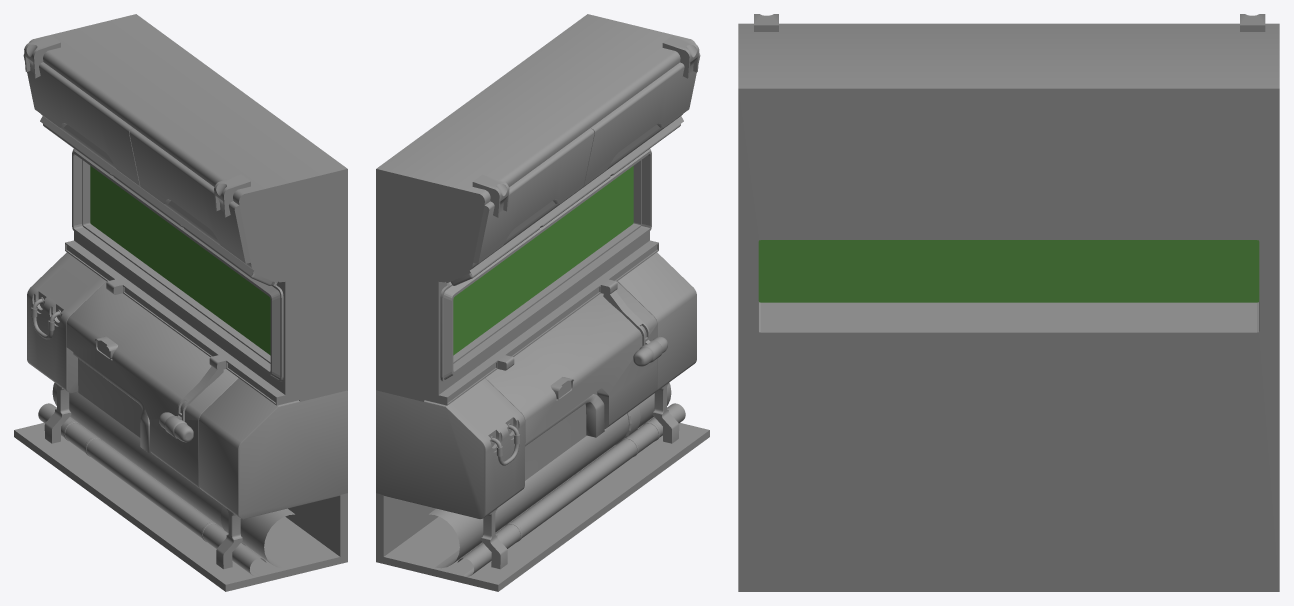
File: window_7.FBX
The picture shows the model from 3 angles, left to right: view 1: azimuth 30°, elevation 25°; view 2: azimuth 150°, elevation 25°; view 3: azimuth 270°, elevation 25°; orthographic projection. The views are drawn at different scales.
Parts seen in each view (by area): view 1: window_low; view 2: window_low; view 3: window_low.
Part boxes in pixels (x1,y1,x2,y2): window_low: [14, 14, 347, 591]; window_low: [376, 14, 709, 591]; window_low: [738, 14, 1279, 591].
Bounding box in the file's own units: 1.02 × 3.12 × 3.
